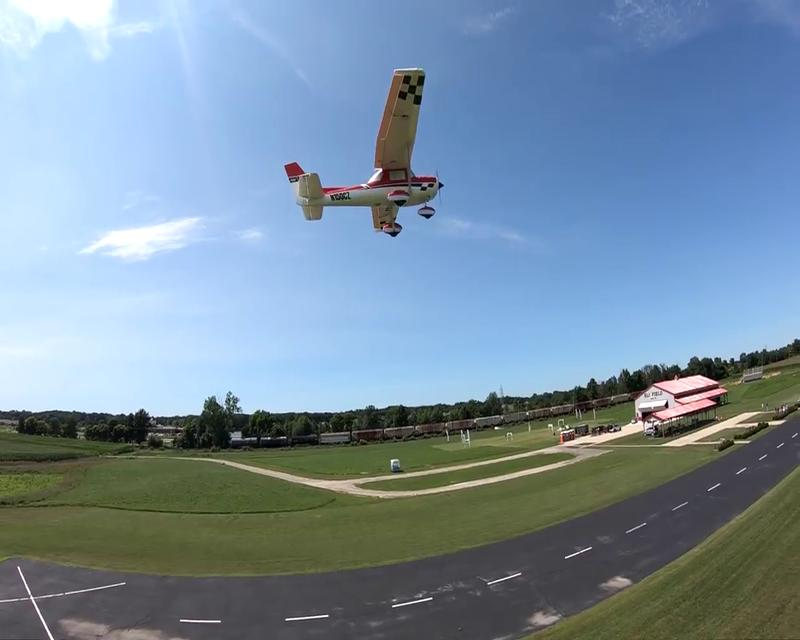UAV: (283, 66, 444, 237)
